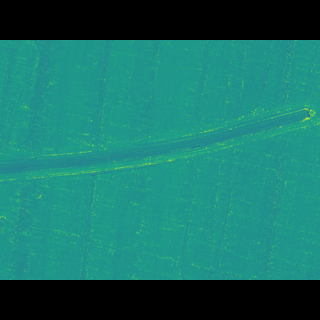Loch: (0, 111, 320, 179)
